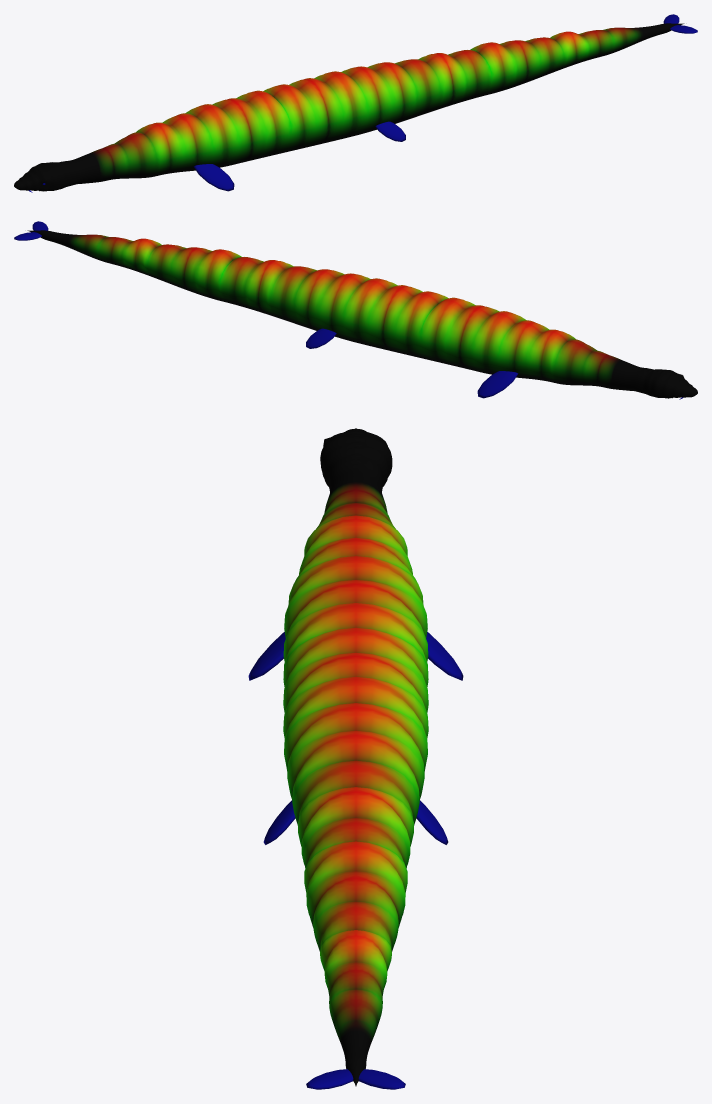
File: tessie.glb
3 renders of one model, top to bottom at view 1: azimuth 30°, elevation 25°; view 2: azimuth 150°, elevation 25°; view 3: azimuth 270°, elevation 25°, orthographic. The views are drawn at different scales.
Parts seen in each view (by area): view 1: lod0; view 2: lod0; view 3: lod0.
Part boxes in pixels (bbox=[...]): lod0: bbox=[14, 14, 697, 192]; lod0: bbox=[14, 221, 697, 399]; lod0: bbox=[248, 428, 463, 1089].
Size of what is drawn, in the model's own units: 19.64 by 1.79 by 2.72.
